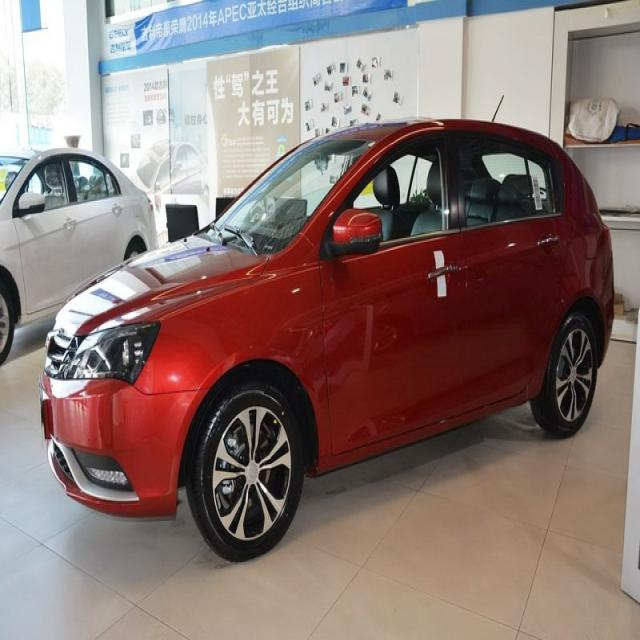door: (448, 134, 563, 404)
front_bumper: (40, 373, 210, 522)
front_glass: (207, 131, 377, 259)
front_left_side_door: (317, 125, 472, 462)
front_left_side_light: (64, 318, 162, 388)
front_left_side_mirror: (330, 209, 383, 258)
wheel: (186, 382, 303, 562), (529, 312, 598, 435)
